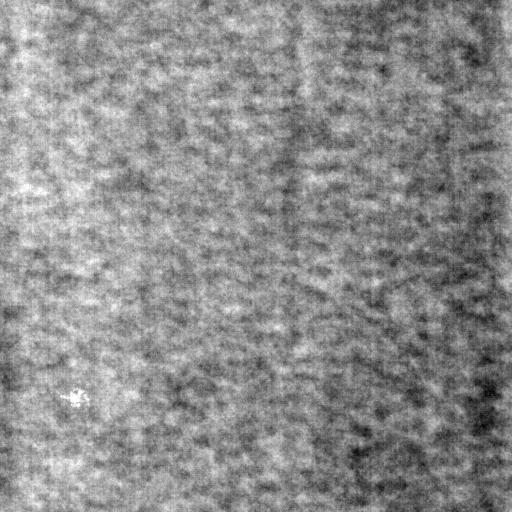DefectTypeA: (55, 392, 89, 411)
